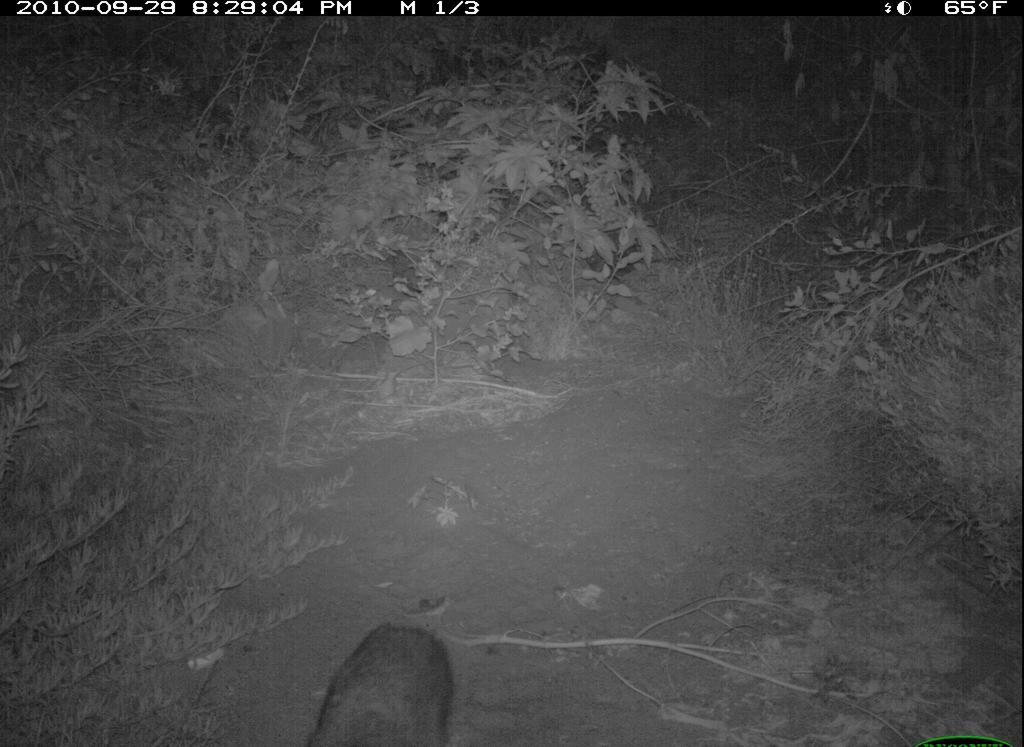raccoon: (297, 610, 469, 747)
